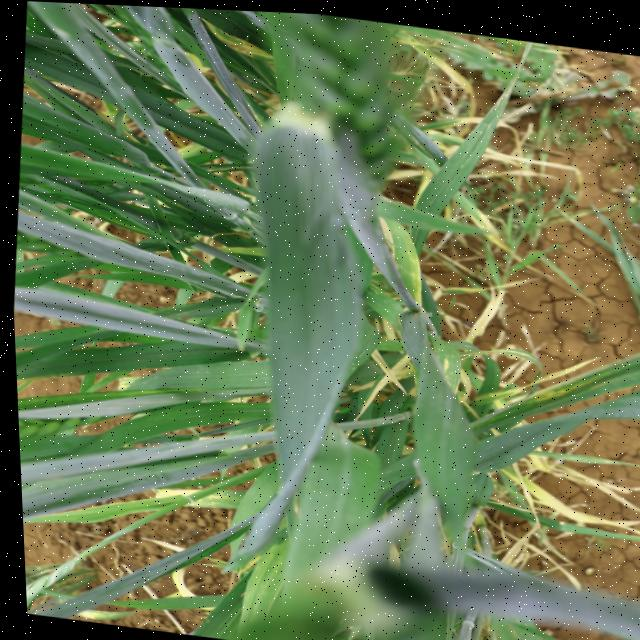healthy_wheat: (211, 7, 456, 640), (8, 0, 268, 244), (12, 337, 283, 494), (8, 219, 285, 366)
